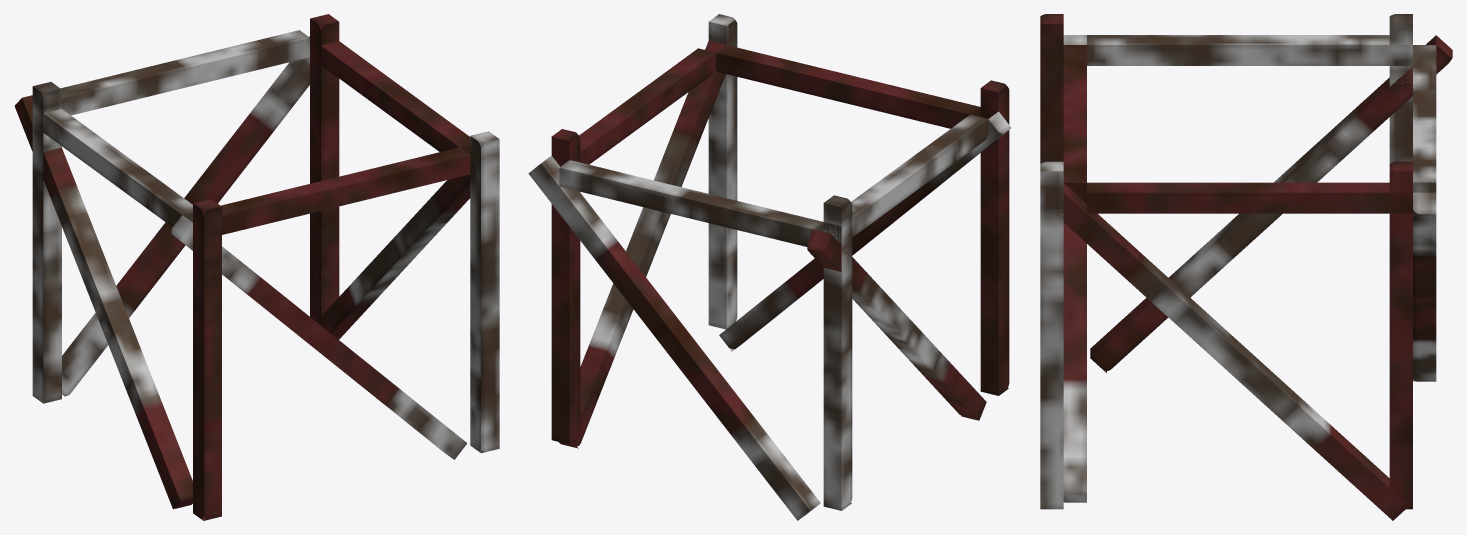
The model's file is radiotower.obj.
3 views of the same model, side by side, from view 1: azimuth 30°, elevation 25°; view 2: azimuth 150°, elevation 25°; view 3: azimuth 270°, elevation 25° (orthographic). The views are drawn at different scales.
Visible parts, largest first — view 1: Part_4, Part_7, Part_1, Part_2, Part_3, Part_10, Part_11, Part_0, Part_5, Part_6, Part_9, Part_8; view 2: Part_7, Part_6, Part_2, Part_3, Part_11, Part_0, Part_10, Part_1, Part_4, Part_9, Part_5, Part_8; view 3: Part_6, Part_4, Part_8, Part_9, Part_1, Part_0, Part_5, Part_7, Part_10, Part_2, Part_11, Part_3.
Boxes of the visible parts, left/top/right/bottom form: Part_4: left=14, top=95, right=192, bottom=509; Part_7: left=62, top=36, right=309, bottom=396; Part_1: left=470, top=131, right=499, bottom=453; Part_2: left=193, top=199, right=221, bottom=520; Part_3: left=32, top=82, right=61, bottom=403; Part_10: left=221, top=147, right=470, bottom=234; Part_11: left=60, top=30, right=309, bottom=115; Part_0: left=310, top=14, right=339, bottom=325; Part_5: left=171, top=215, right=467, bottom=459; Part_6: left=321, top=162, right=476, bottom=339; Part_9: left=43, top=109, right=192, bottom=226; Part_8: left=321, top=41, right=470, bottom=154; Part_7: left=528, top=155, right=820, bottom=520; Part_6: left=559, top=41, right=726, bottom=448; Part_2: left=980, top=80, right=1009, bottom=395; Part_3: left=823, top=195, right=852, bottom=510; Part_11: left=559, top=160, right=823, bottom=246; Part_0: left=551, top=129, right=580, bottom=444; Part_10: left=716, top=45, right=980, bottom=128; Part_1: left=708, top=14, right=737, bottom=329; Part_4: left=807, top=229, right=986, bottom=420; Part_9: left=823, top=114, right=988, bottom=244; Part_5: left=719, top=111, right=1011, bottom=351; Part_8: left=553, top=48, right=716, bottom=164; Part_6: left=1049, top=183, right=1408, bottom=520; Part_4: left=1090, top=35, right=1452, bottom=372; Part_8: left=1087, top=182, right=1412, bottom=213; Part_9: left=1087, top=35, right=1412, bottom=65; Part_1: left=1040, top=161, right=1063, bottom=509; Part_0: left=1389, top=161, right=1412, bottom=509; Part_5: left=1063, top=35, right=1086, bottom=502; Part_7: left=1413, top=192, right=1436, bottom=381; Part_10: left=1063, top=45, right=1086, bottom=203; Part_2: left=1040, top=14, right=1063, bottom=163; Part_11: left=1413, top=45, right=1436, bottom=192; Part_3: left=1389, top=14, right=1412, bottom=163.
Size of the model in its own units: 17.41 by 16.56 by 17.71.
